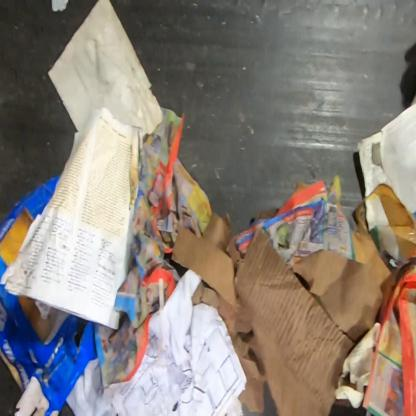cardboard: (170, 207, 386, 415), (0, 174, 98, 416), (361, 259, 415, 415), (351, 183, 415, 264), (350, 211, 401, 299)
